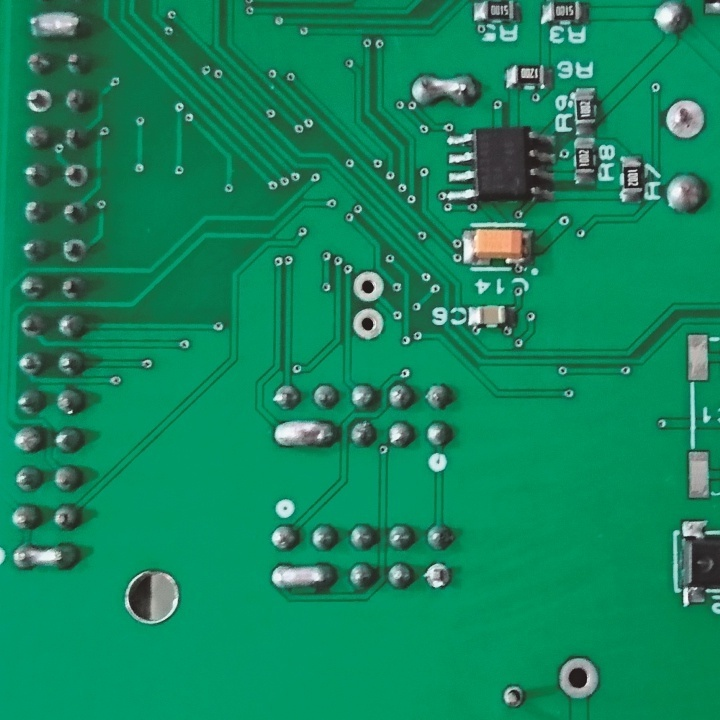F: (556, 654, 601, 698), (664, 99, 709, 140), (351, 269, 387, 303), (352, 309, 387, 342), (21, 86, 56, 115), (61, 161, 91, 192), (63, 237, 90, 266), (424, 562, 451, 591), (499, 681, 523, 712)
P: (405, 72, 484, 111), (267, 557, 339, 595), (11, 540, 81, 576), (267, 416, 342, 449), (24, 12, 88, 40)
